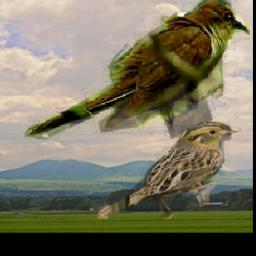Cuckoo: (25, 0, 250, 140)
Sparrow: (96, 121, 241, 219)
